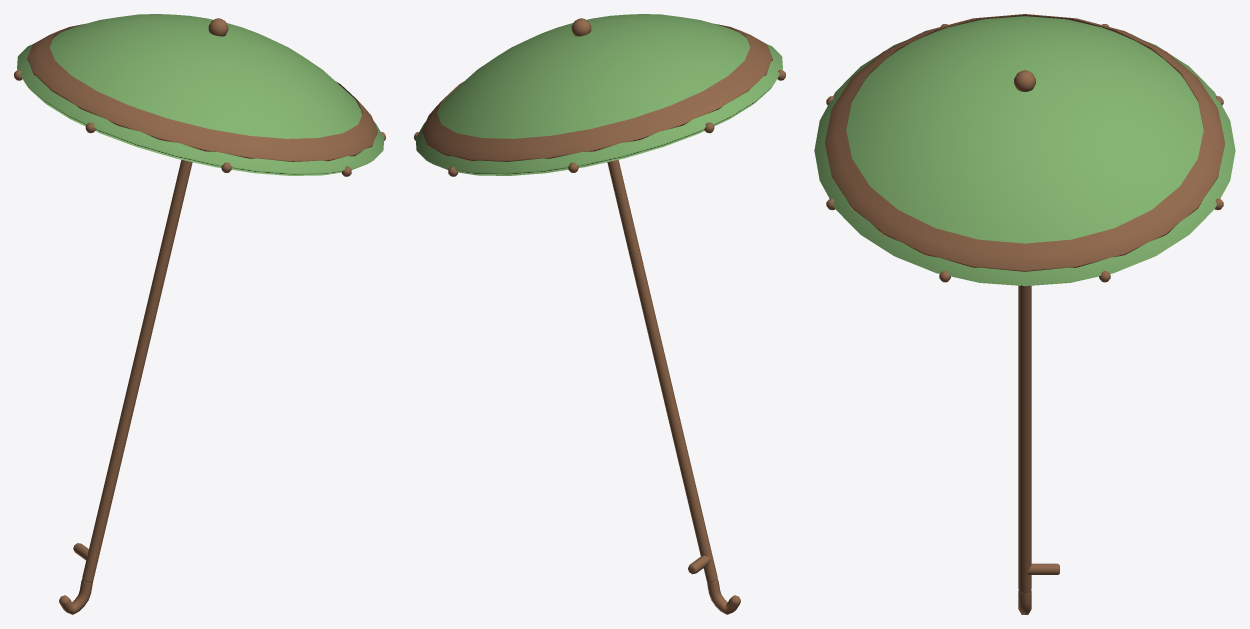
Rendered from kiwi_umbrella.glb.
3 views of the same model, side by side, from view 1: azimuth 30°, elevation 25°; view 2: azimuth 150°, elevation 25°; view 3: azimuth 270°, elevation 25° (orthographic). The views are drawn at different scales.
Visible parts, largest first — view 1: kiwi_umbrella_ArmR; view 2: kiwi_umbrella_ArmR; view 3: kiwi_umbrella_ArmR.
Part boxes in pixels (<box>): kiwi_umbrella_ArmR: <box>14,14,385,614</box>; kiwi_umbrella_ArmR: <box>414,14,785,614</box>; kiwi_umbrella_ArmR: <box>814,14,1235,614</box>.
Size of the model in its own units: 0.8703 by 1.47 by 0.9.
